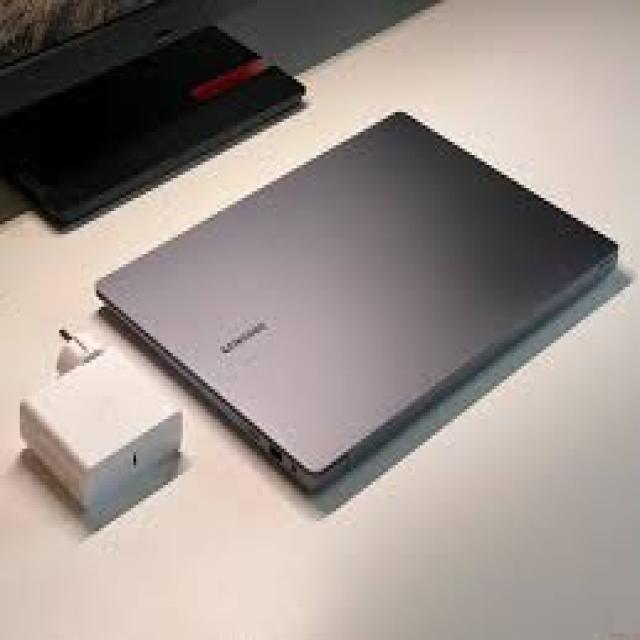laptop: (93, 109, 620, 496)
